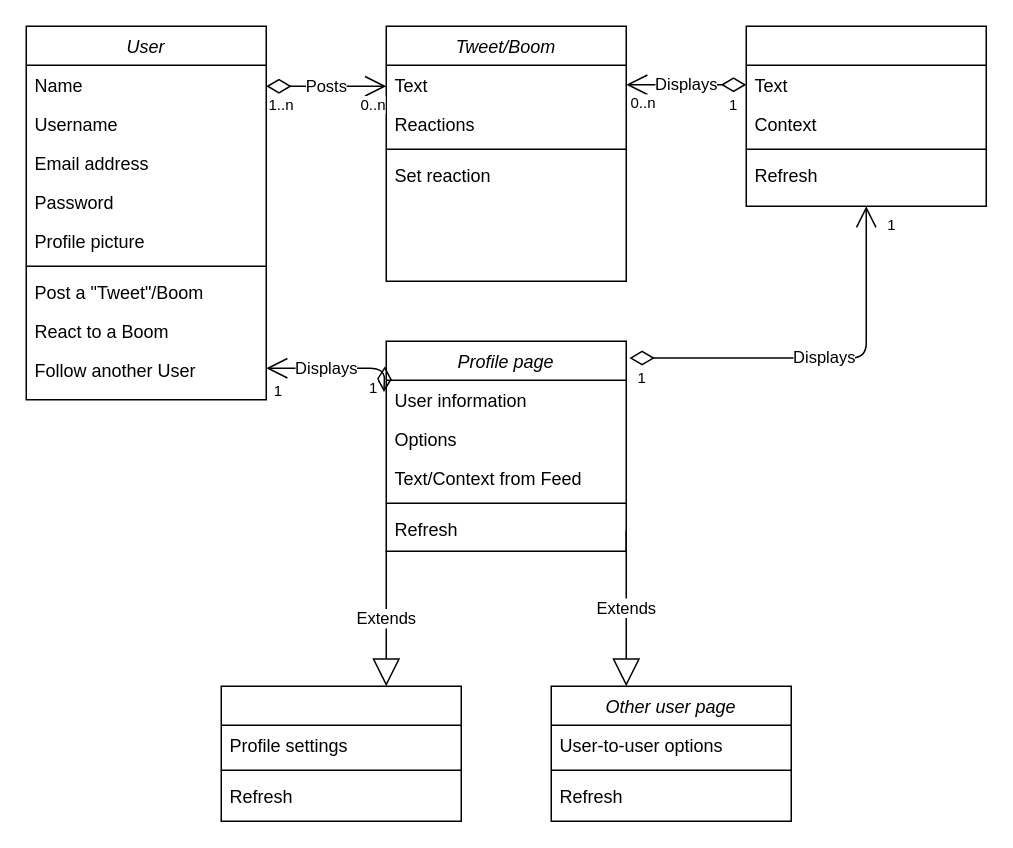
Some shapes in this 1013 by 848 pixel diagram are drawn without their labels. Here are the shapes that lost their labels. From the top down, the box of each, then its label:
(745, 25, 986, 206): Feed
(220, 685, 461, 821): Own user page
